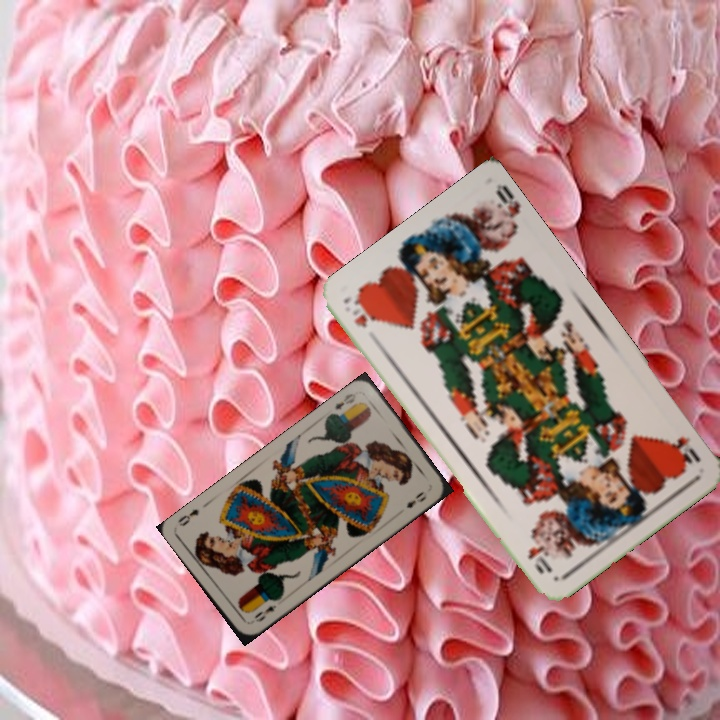EO: (250, 601, 279, 625), (331, 389, 358, 413)
HO: (663, 432, 703, 471), (347, 295, 376, 330)
